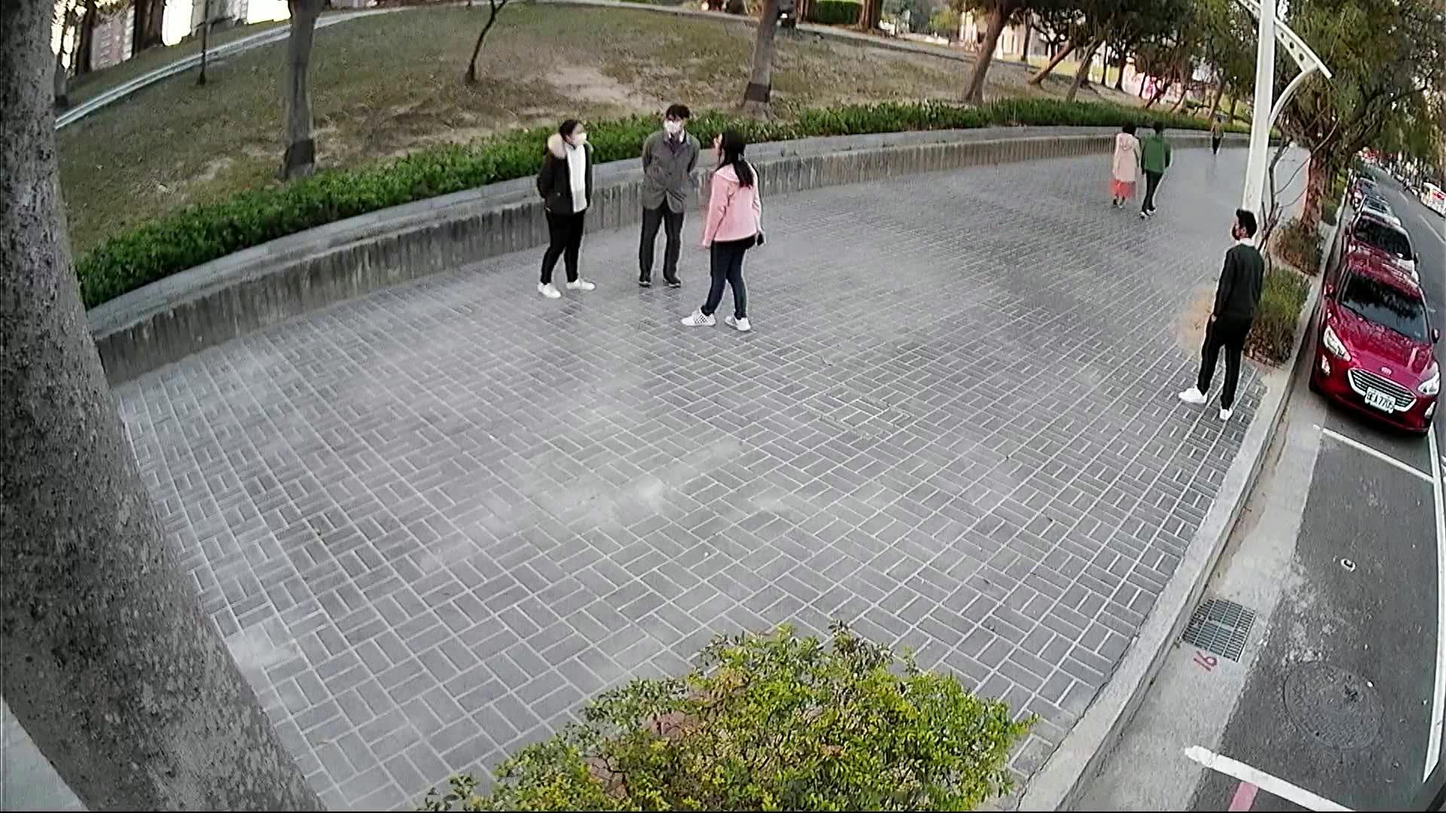person: (1167, 198, 1266, 428), (676, 121, 765, 333), (527, 112, 599, 300), (633, 100, 701, 292), (1130, 116, 1174, 221), (1105, 111, 1142, 211)
